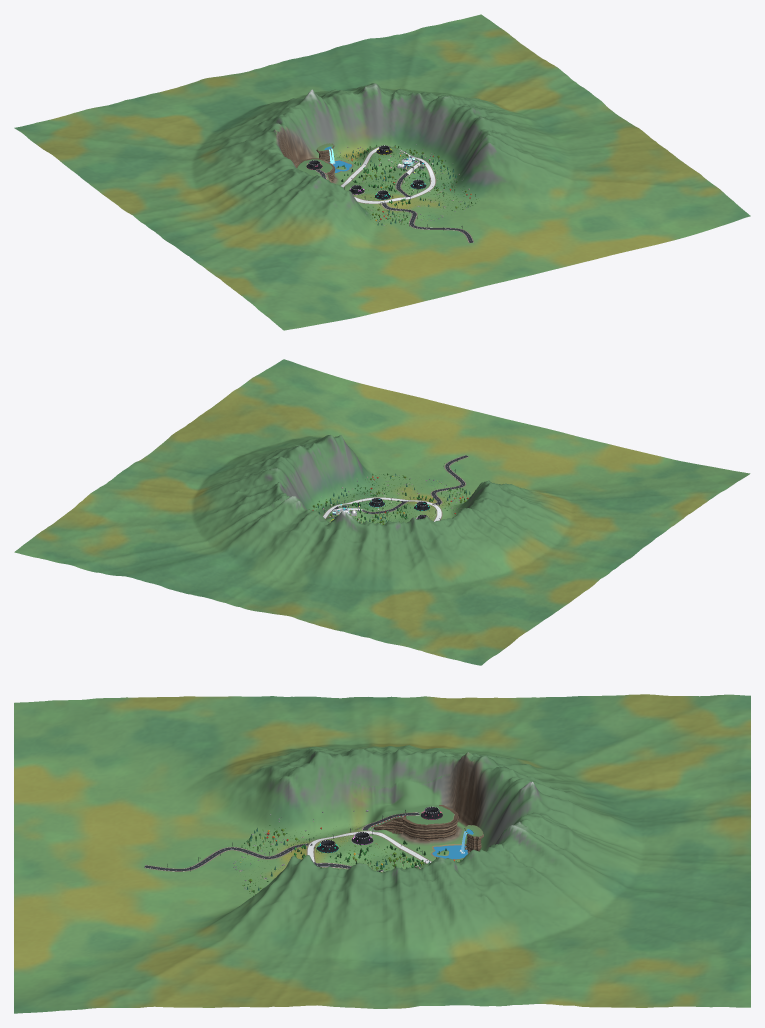
Rendered from career_valley.glb.
3 renders of one model, top to bottom at view 1: azimuth 30°, elevation 25°; view 2: azimuth 150°, elevation 25°; view 3: azimuth 270°, elevation 25°, orthographic. The views are drawn at different scales.
Parts seen in each view (by area): view 1: terrain, road_ring; view 2: terrain; view 3: terrain, cliff_rock, road_approach, road_ring.
Part boxes in pixels (bbox=[...]): terrain: bbox=[14, 14, 750, 330]; road_ring: bbox=[340, 146, 436, 203]; terrain: bbox=[14, 359, 750, 665]; terrain: bbox=[14, 694, 750, 1013]; cliff_rock: bbox=[373, 805, 458, 840]; road_approach: bbox=[144, 843, 312, 871]; road_ring: bbox=[306, 830, 431, 863].
Size of the model in its own units: 1240 by 140 by 1240.
